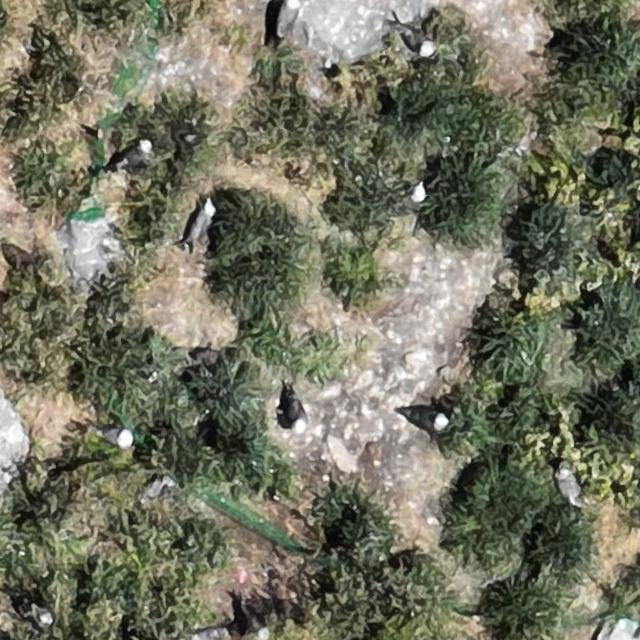umineko: (389, 182, 426, 216), (188, 201, 214, 239), (403, 407, 445, 429), (558, 470, 581, 503), (119, 142, 150, 166), (99, 428, 133, 448), (408, 33, 433, 56), (290, 401, 308, 432), (192, 627, 223, 639)
